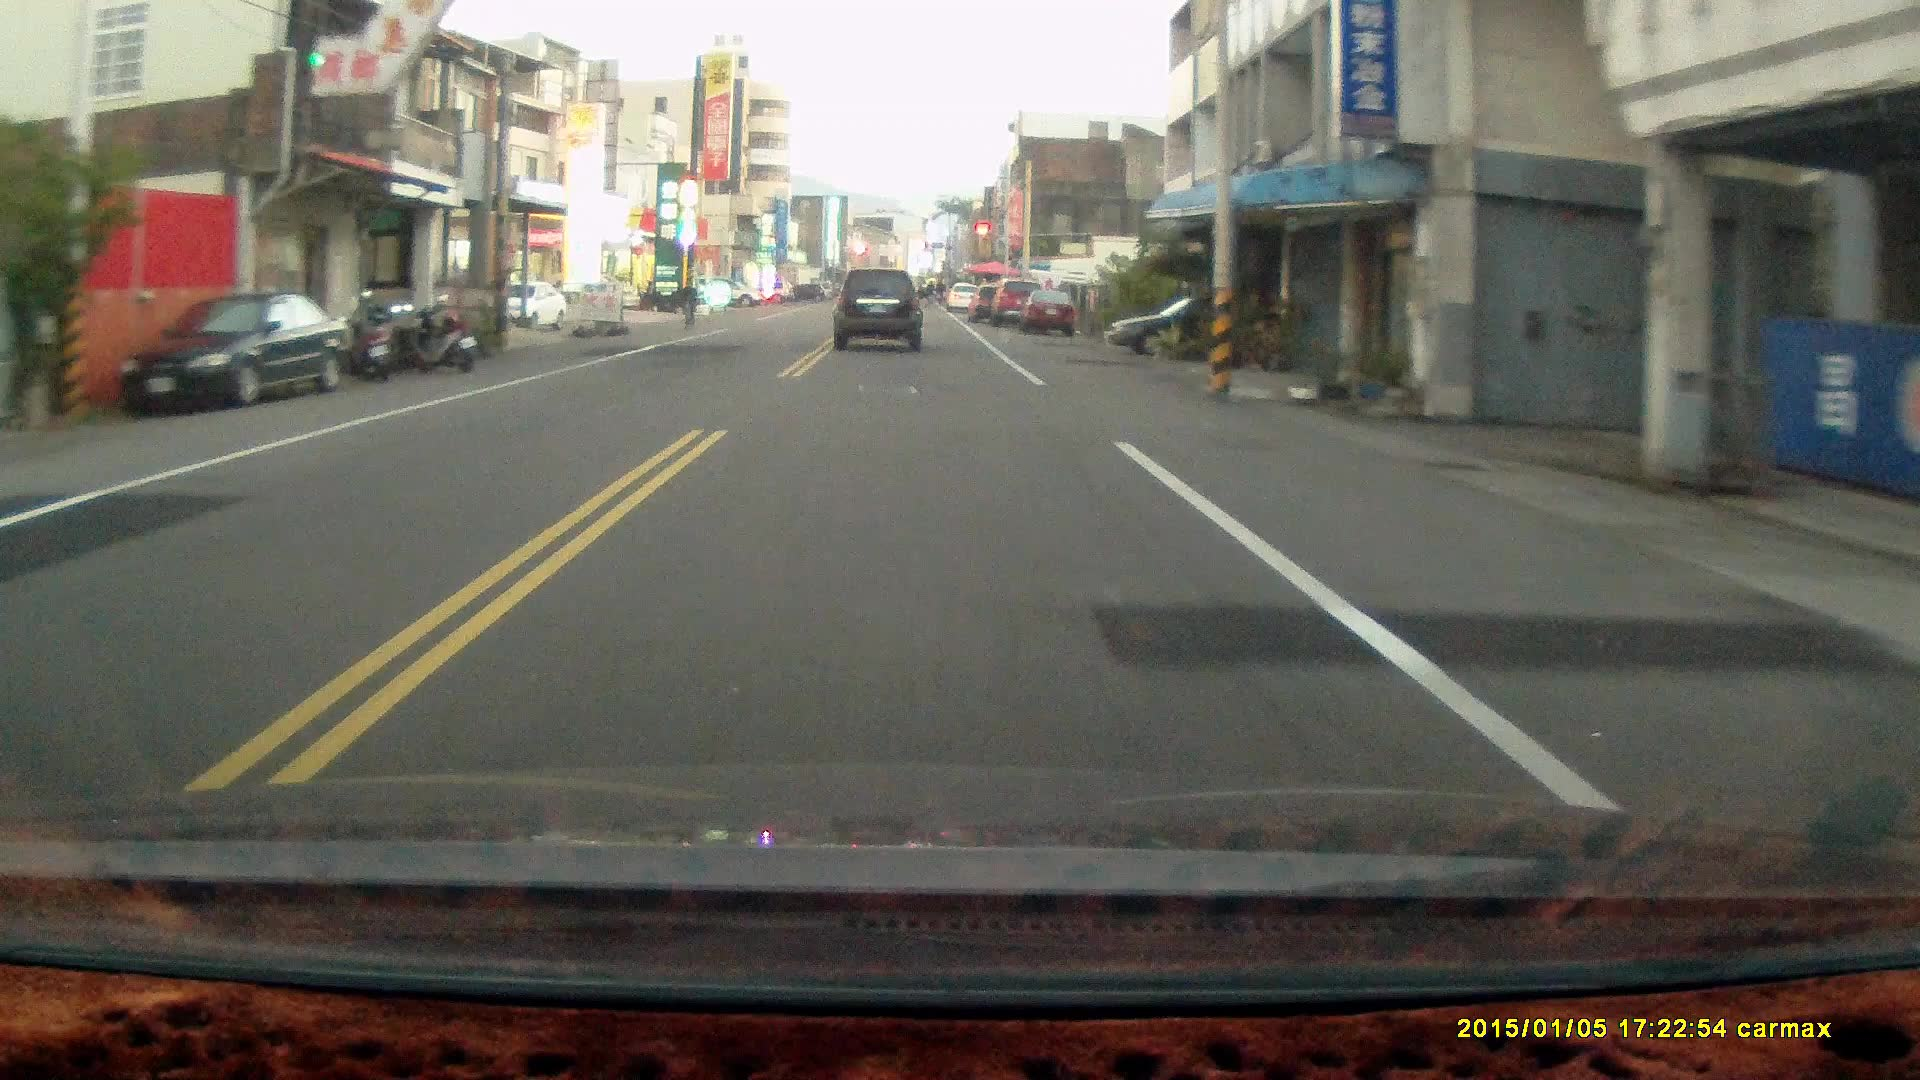rider: (675, 277, 699, 333)
vehicle: (113, 292, 356, 412), (833, 265, 926, 353), (474, 280, 568, 329)
